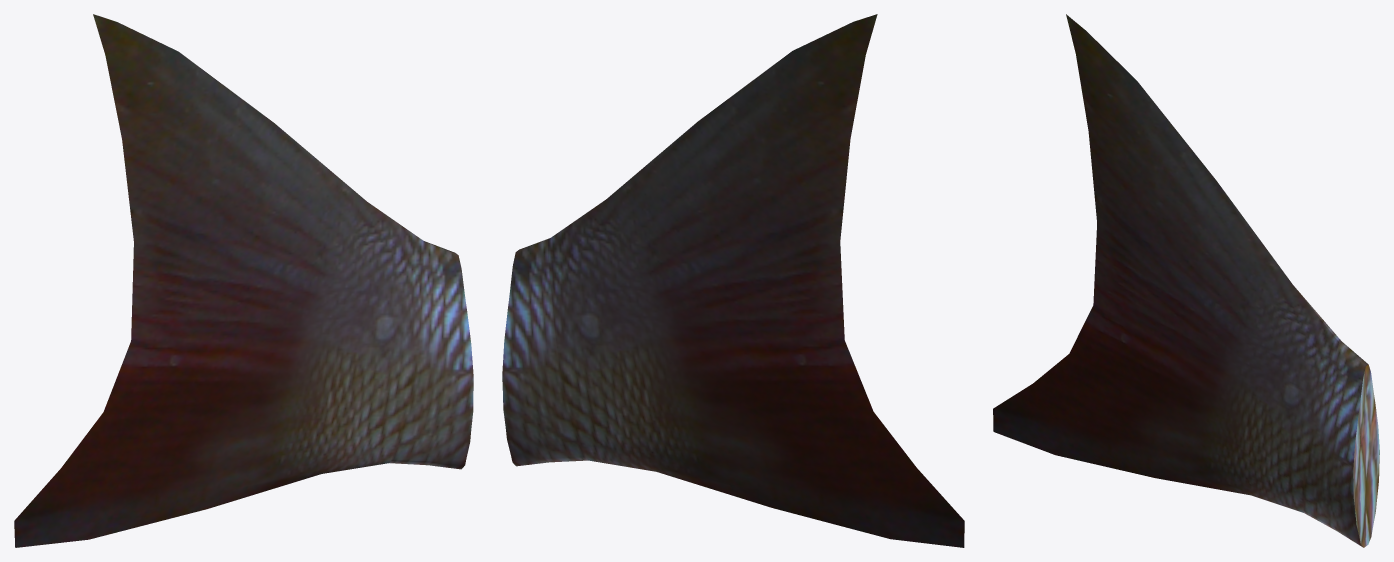
The model's file is body.obj.
3 renders of one model, left to right at view 1: azimuth 30°, elevation 25°; view 2: azimuth 150°, elevation 25°; view 3: azimuth 330°, elevation 25°, orthographic. The views are drawn at different scales.
Visible parts, largest first — view 1: Line01_02_-_Default_0_slice; view 2: Line01_02_-_Default_0_slice; view 3: Line01_02_-_Default_0_slice.
Part boxes in pixels (box(x1,y1,x2,y2)): Line01_02_-_Default_0_slice: box(14, 14, 473, 547); Line01_02_-_Default_0_slice: box(502, 14, 964, 547); Line01_02_-_Default_0_slice: box(993, 14, 1379, 547).
Size of the model in its own units: 2.24 by 2.6 by 0.2775.
Materials: 1 (1 with a texture image).
